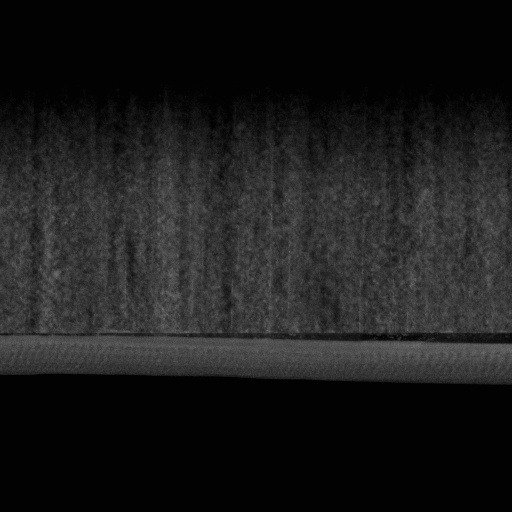kaijiao: (182, 328, 511, 389)
